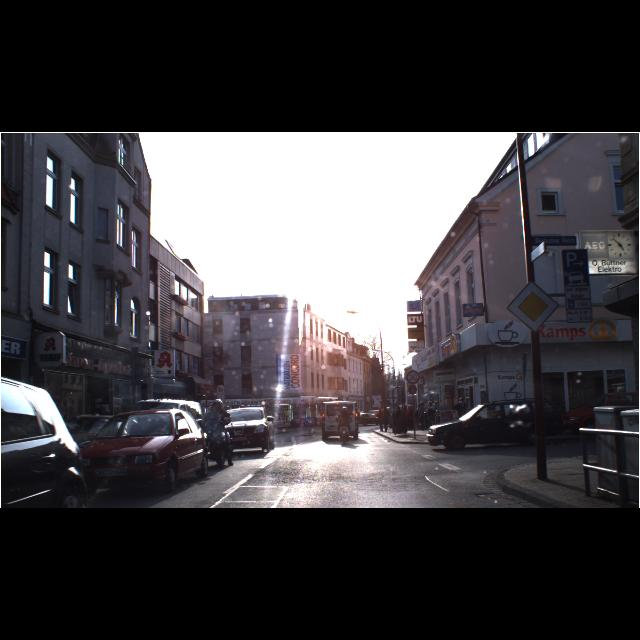mandatory: (304, 416, 314, 426)
other: (507, 281, 559, 333)
prohibitory: (406, 370, 420, 384)
